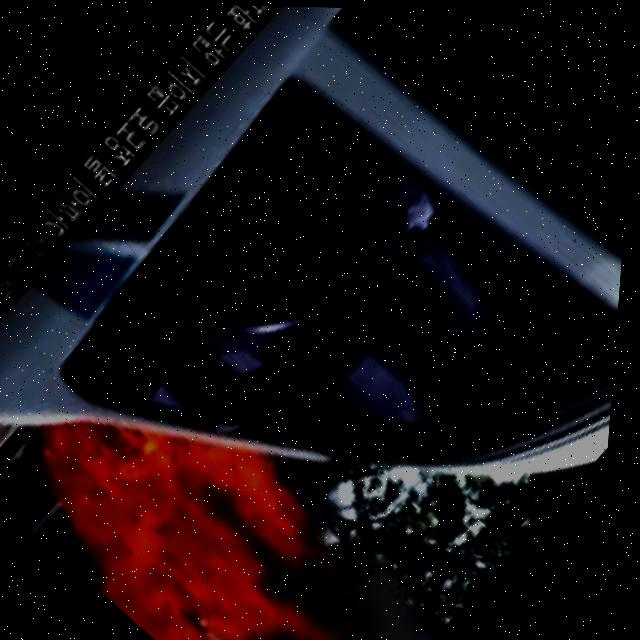Fire: (6, 349, 370, 640)
